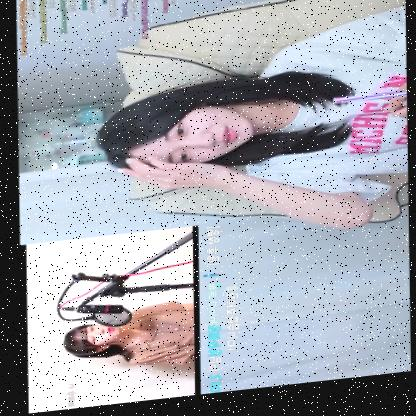donation: (20, 225, 242, 414)
streamer: (94, 12, 408, 258)
